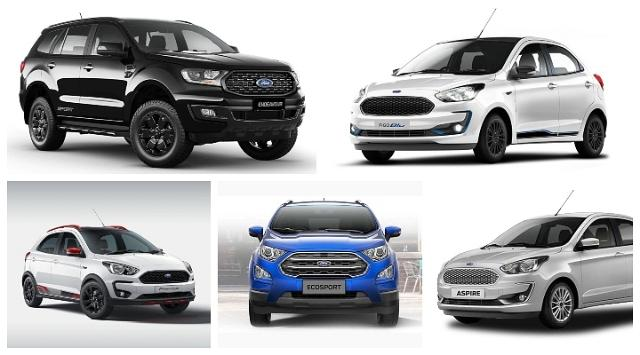ford: (18, 12, 306, 168), (349, 8, 609, 164), (436, 189, 640, 331), (248, 198, 402, 326), (22, 208, 196, 320)
